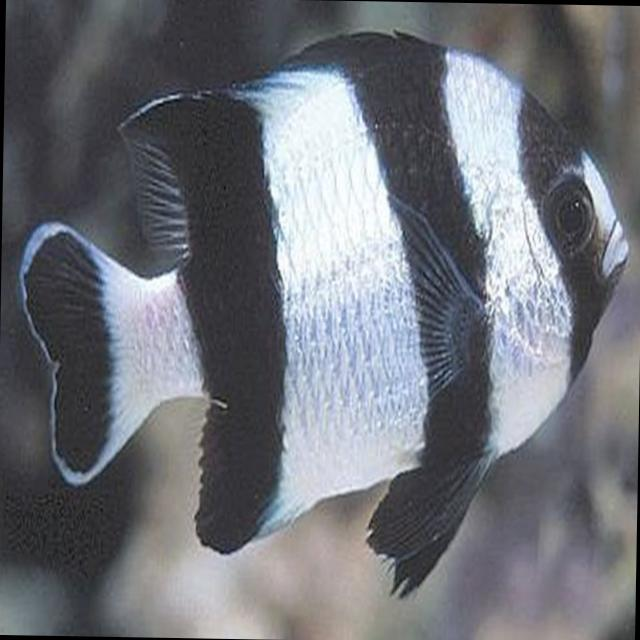ThreeStripedDamselfish: (15, 21, 632, 604)
